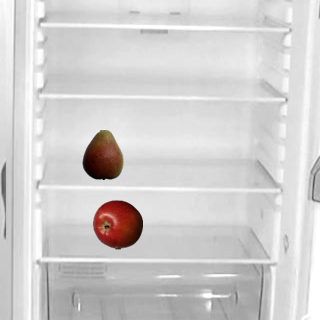Apple Braeburn: (92, 199, 142, 249)
Pear Forelle: (77, 129, 127, 179)
